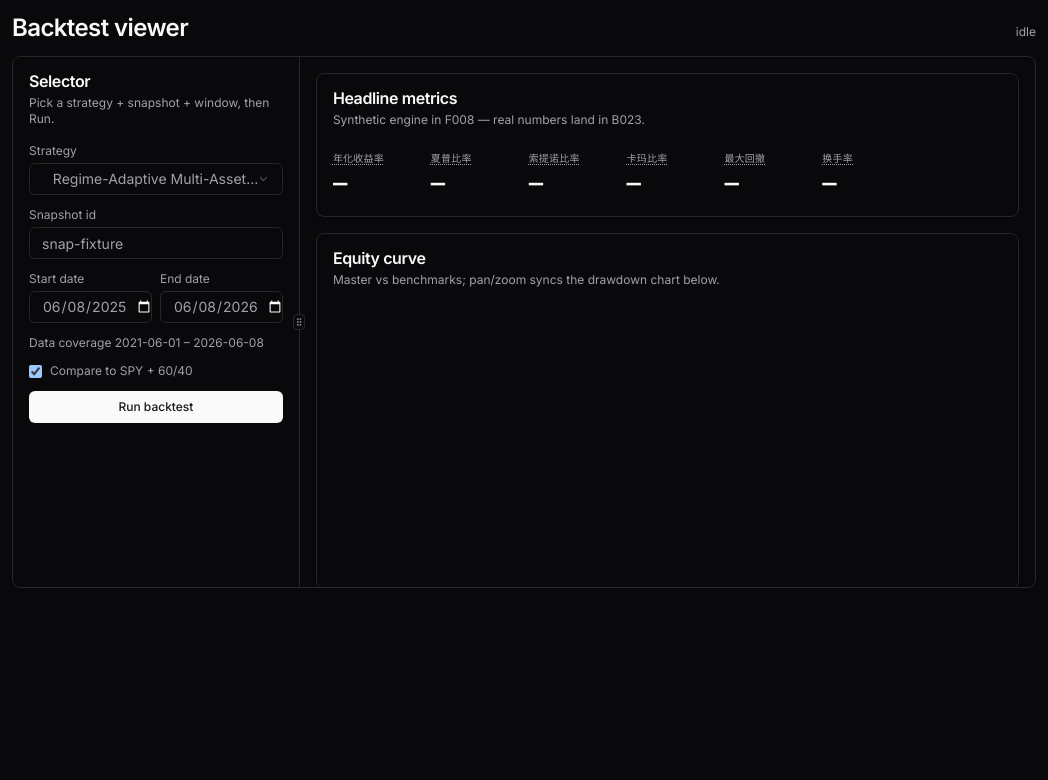
Test case: BacktestPage data range (B047-OPS2 F002) › maps error_kind to a friendly message, never the raw English exception
Click the button with test id "backtest-run": point(156, 407) [29,391,283,423]
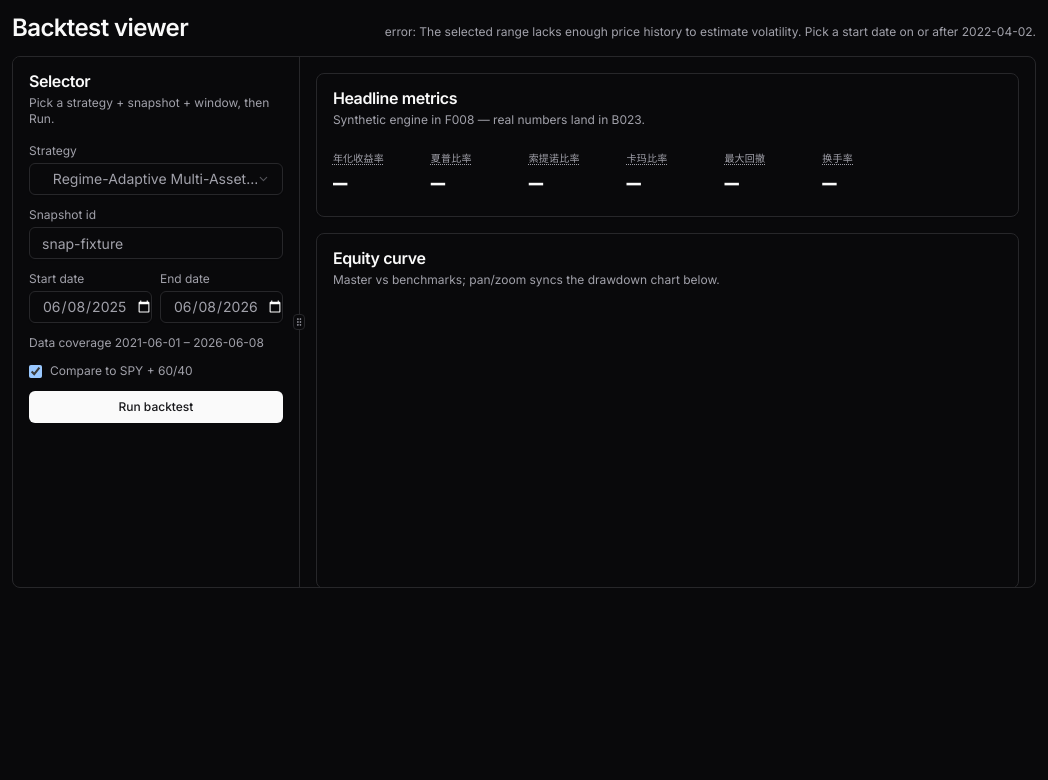
Check: the text with test id "backtest-state" does not show "insufficient price history", box [385,24,1036,40]
Check: the text with test id "backtest-state" shows "lacks enough price history", box [385,24,1036,39]
Check: the text with test id "backtest-state" shows "2022-04-02", box [385,24,1036,39]
